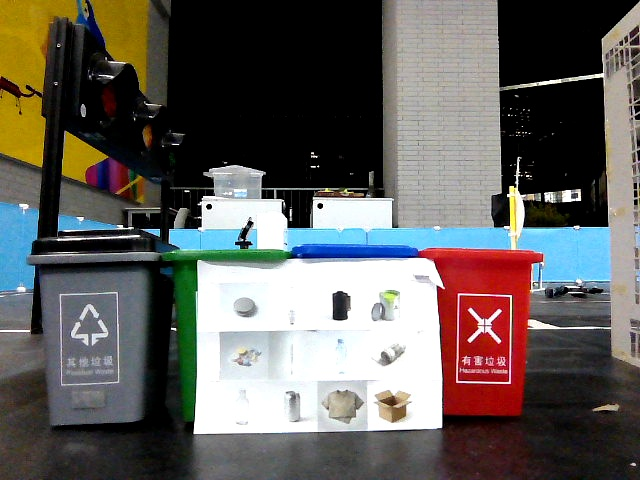hazardous_trash: (218, 285, 270, 329), (222, 333, 271, 375), (269, 285, 313, 331), (368, 284, 410, 329), (319, 286, 362, 328), (275, 333, 312, 380)
recyclable_trash: (217, 385, 268, 432), (317, 385, 367, 430), (317, 333, 364, 380), (370, 333, 413, 380), (271, 385, 313, 430), (371, 385, 413, 430)
